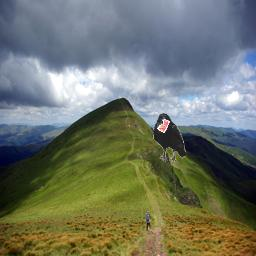Crow: (153, 113, 187, 163)
